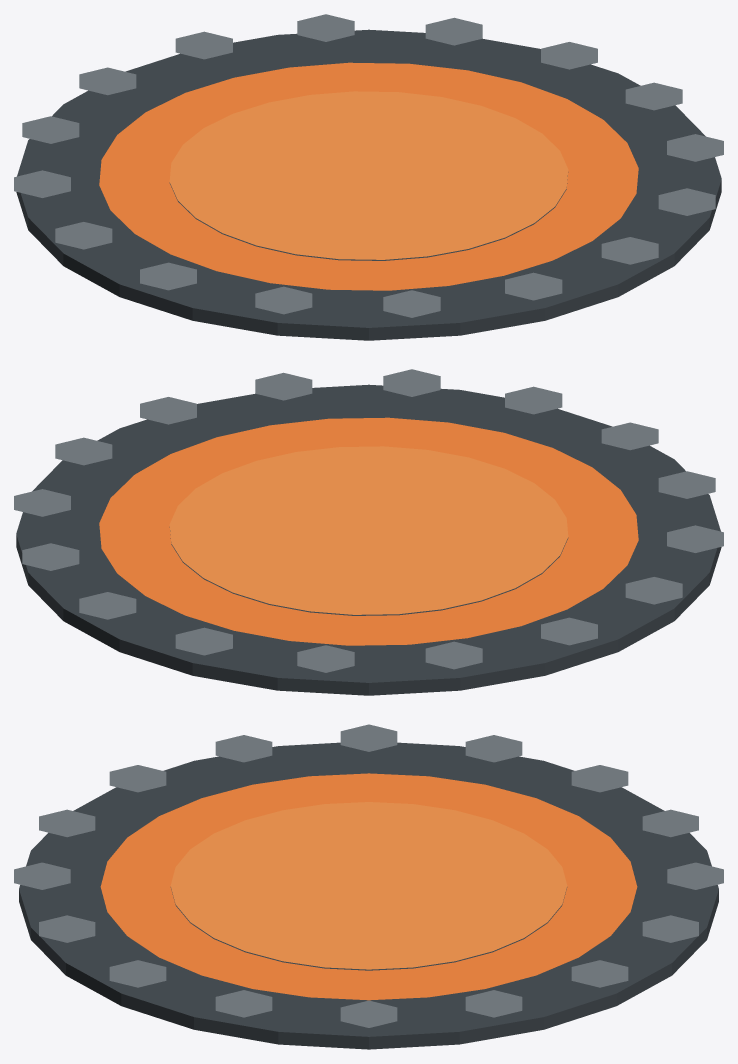
File: warp.fbx
The picture shows the model from 3 angles, top to bottom: view 1: azimuth 30°, elevation 25°; view 2: azimuth 150°, elevation 25°; view 3: azimuth 270°, elevation 25°; orthographic projection.
Visible parts, largest first — view 1: warp; view 2: warp; view 3: warp.
Part boxes in pixels (<box>): warp: <box>14,14,723,340</box>; warp: <box>14,369,723,695</box>; warp: <box>14,724,723,1049</box>.
Bounding box in the file's own units: 3.08 × 0.12 × 3.04.
